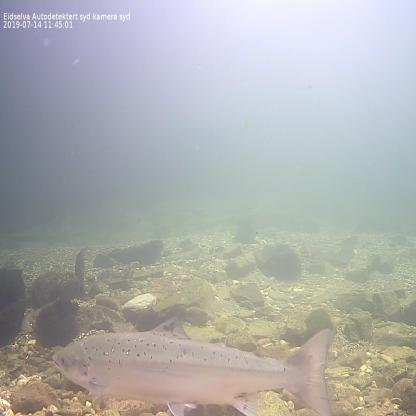salmon: (50, 314, 334, 416)
